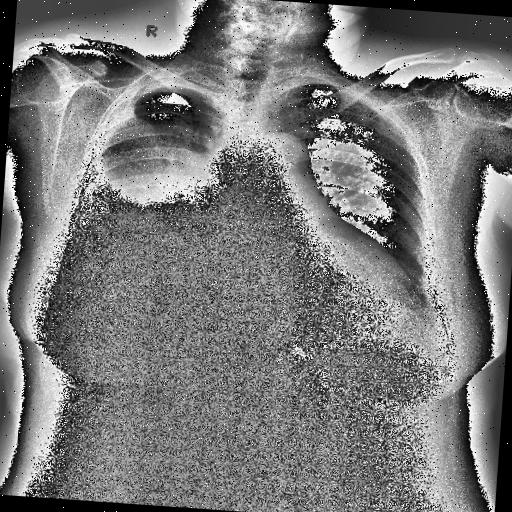10- Pleural effusion: (58, 88, 220, 333), (50, 128, 220, 334), (65, 158, 219, 377)
3- Cardiomegaly: (184, 226, 422, 314), (206, 256, 418, 349)
4- Consolidation: (104, 120, 202, 206)
